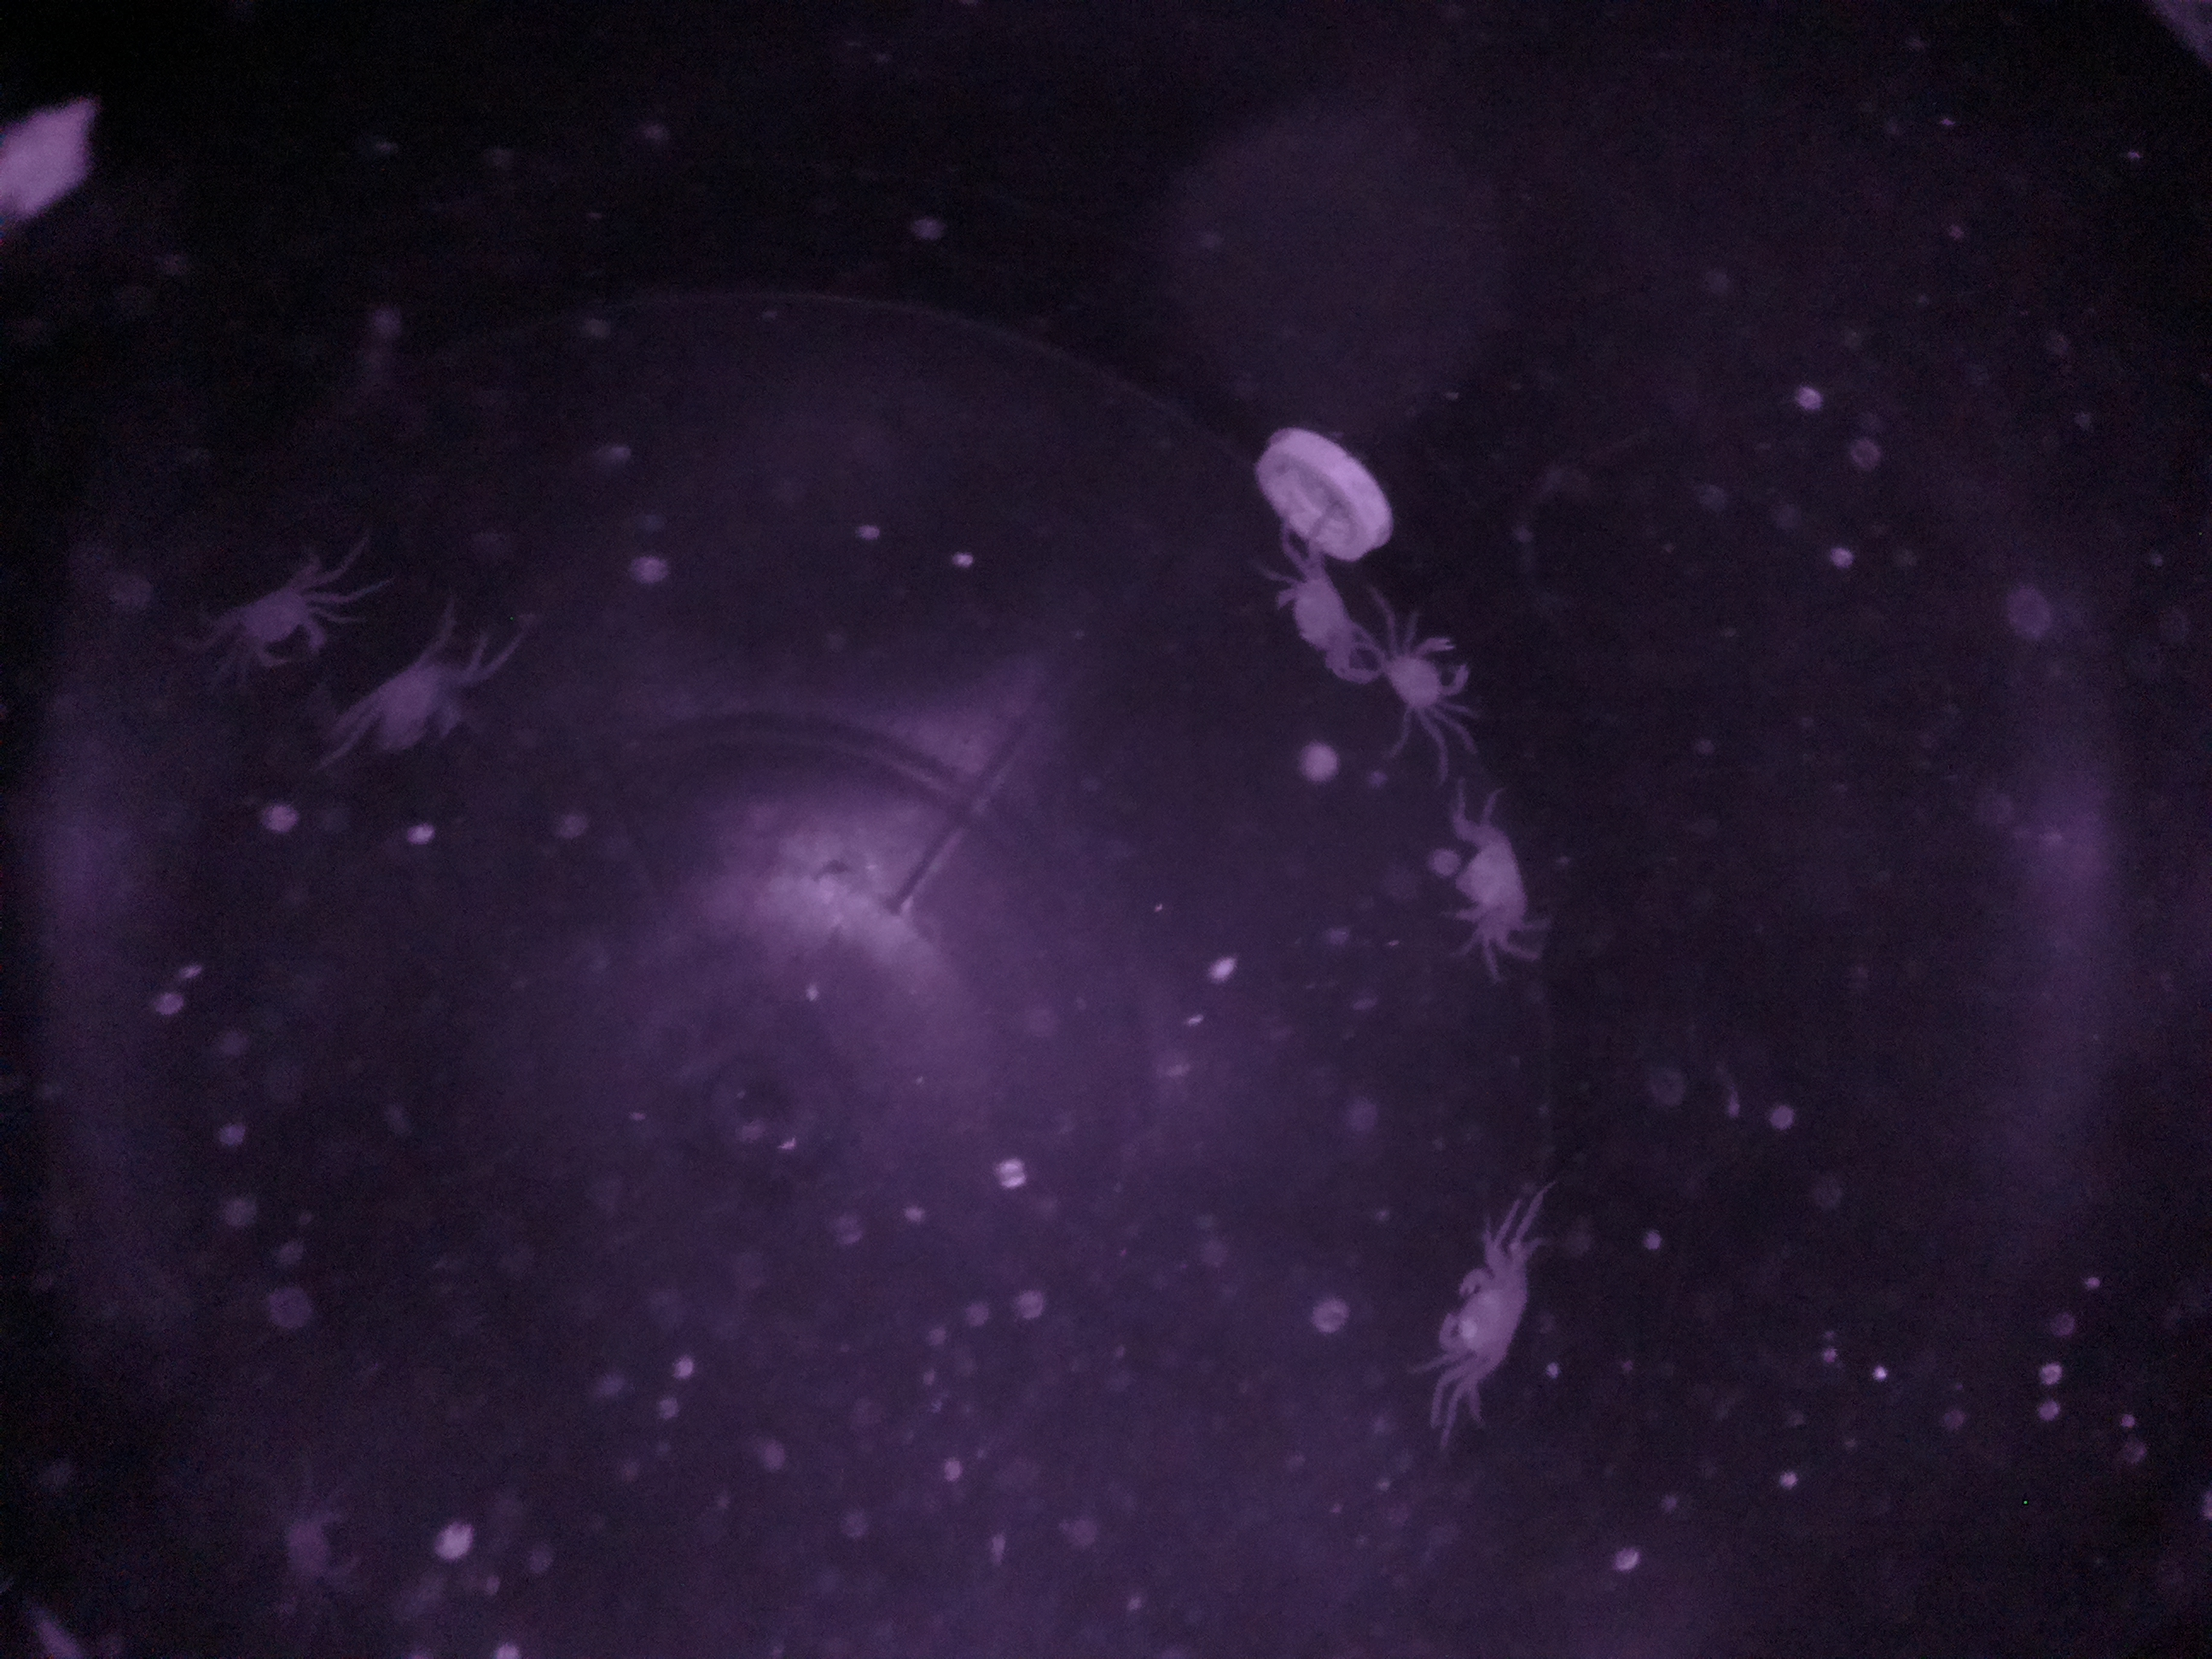Crab: (1397, 1234, 1550, 1406), (1414, 810, 1543, 953), (200, 563, 343, 687), (1259, 549, 1378, 687), (1371, 613, 1494, 728)
